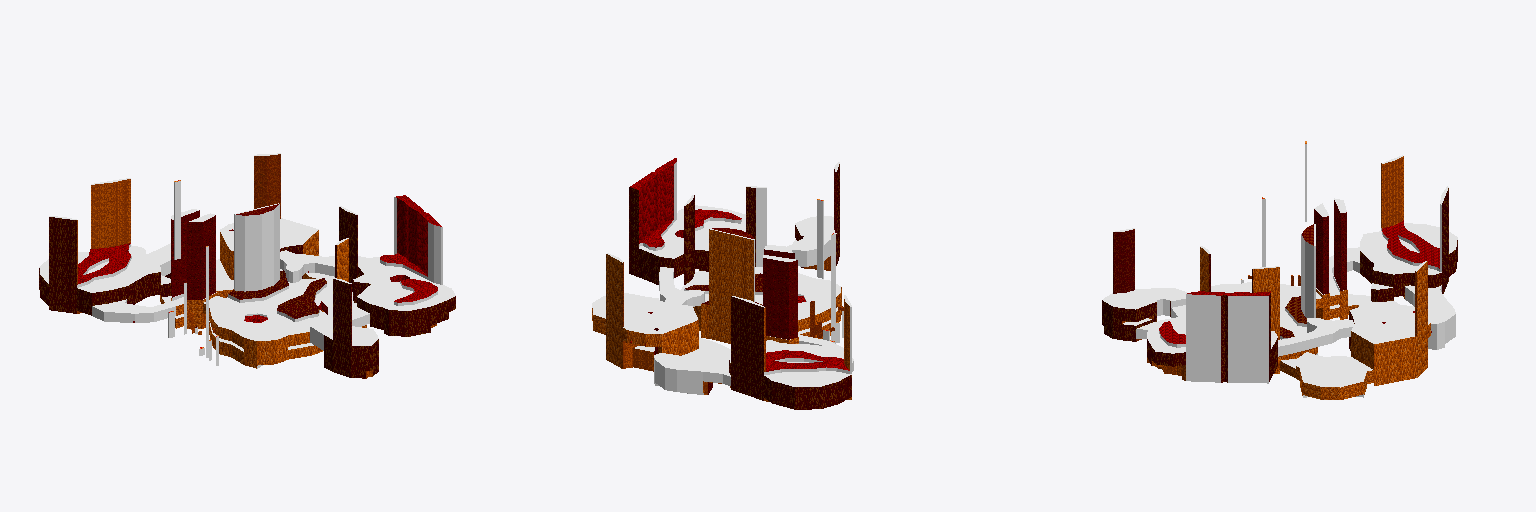
The picture shows the model from 3 angles: view 1: azimuth 30°, elevation 25°; view 2: azimuth 150°, elevation 25°; view 3: azimuth 270°, elevation 25°; orthographic projection.
Parts seen in each view (by area): view 1: MAPM5; view 2: MAPM5; view 3: MAPM5.
Part boxes in pixels (x1,y1,x2,y2): MAPM5: (39, 153, 455, 378); MAPM5: (592, 158, 853, 409); MAPM5: (1102, 141, 1457, 399).
Size of the model in its own units: 6048 by 3232 by 6400.
Materials: 25 (16 with a texture image).